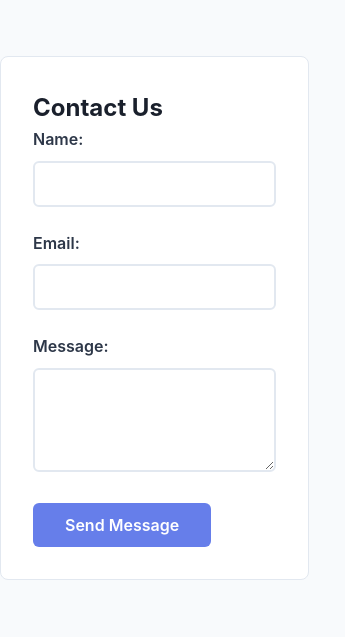
Test case: ContactForm Component › prevents form submission when validation fails
# Submit form with invalid data
Type "J" into the field labelled "Name:" at point(154, 184), box [33,161,276,207]
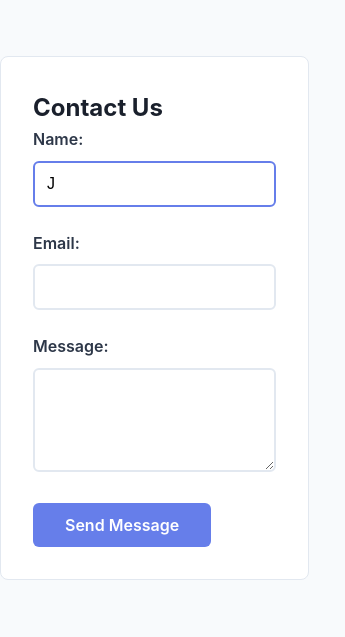
Type "invalid-email" into the field labelled "Email:" at point(154, 287), box [33,264,276,310]
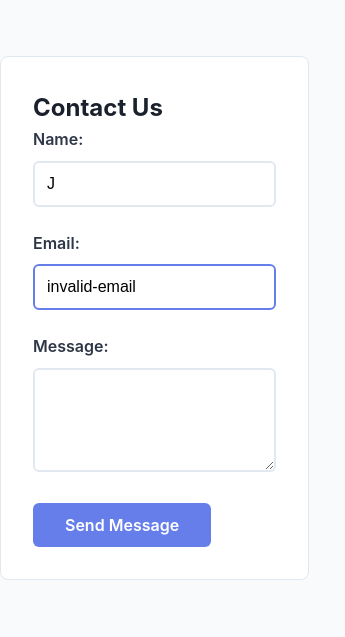
Type "Short" into the text box labelled "Message:" at point(154, 420), box [33,368,276,472]
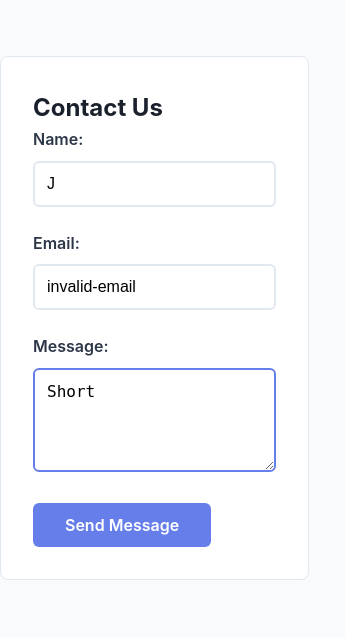
Click the button "Send Message" at point(122, 525), box [33,503,211,547]
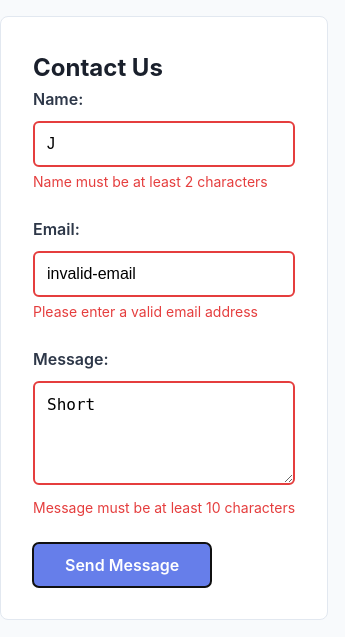
Check: the text "Name must be at least 2 characters" is shown, box [33,171,295,193]
Check: the text "Please enter a valid email address" is shown, box [33,301,295,323]
Check: the text "Message must be at least 10 characters" is shown, box [33,497,295,519]
